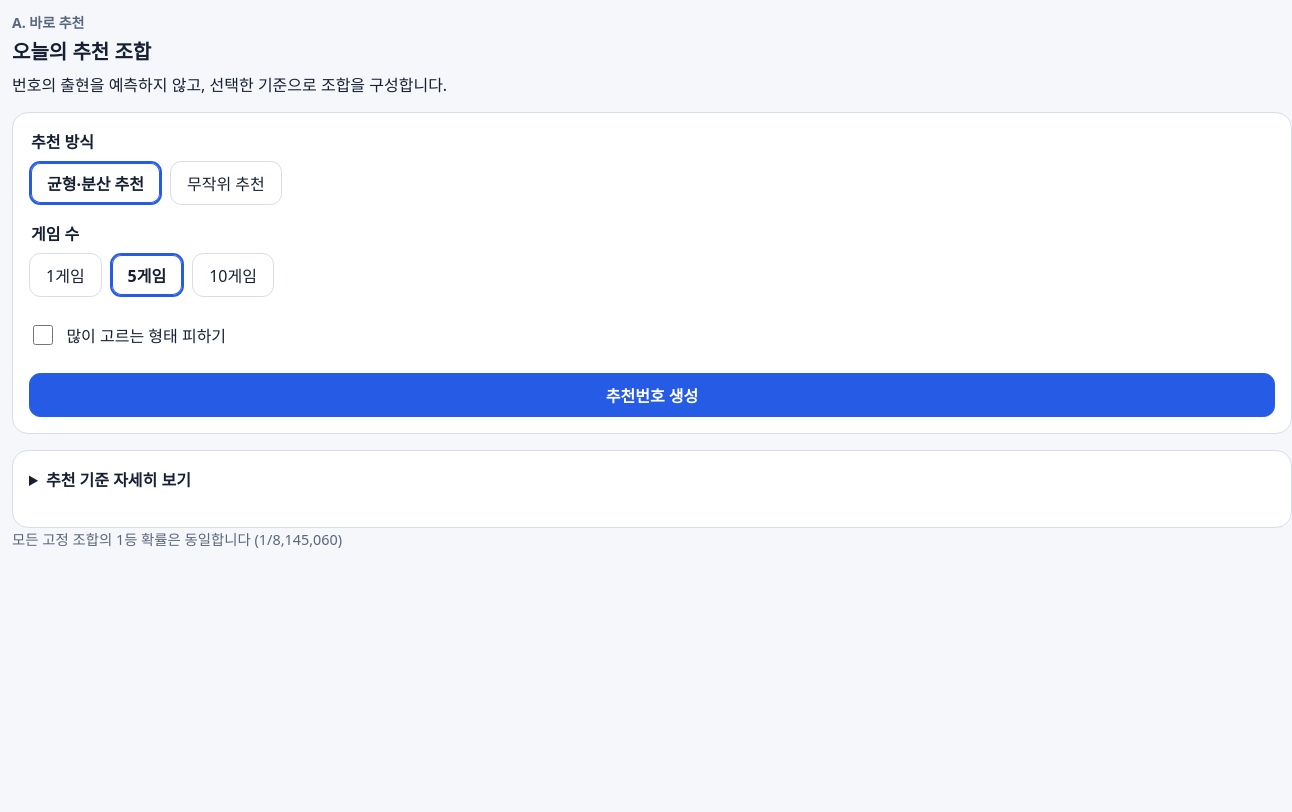
disables the popularity heuristic in random mode and explains that it is not applied
Click the button "무작위 추천". click: [226, 183]
box: [170,161,282,205]
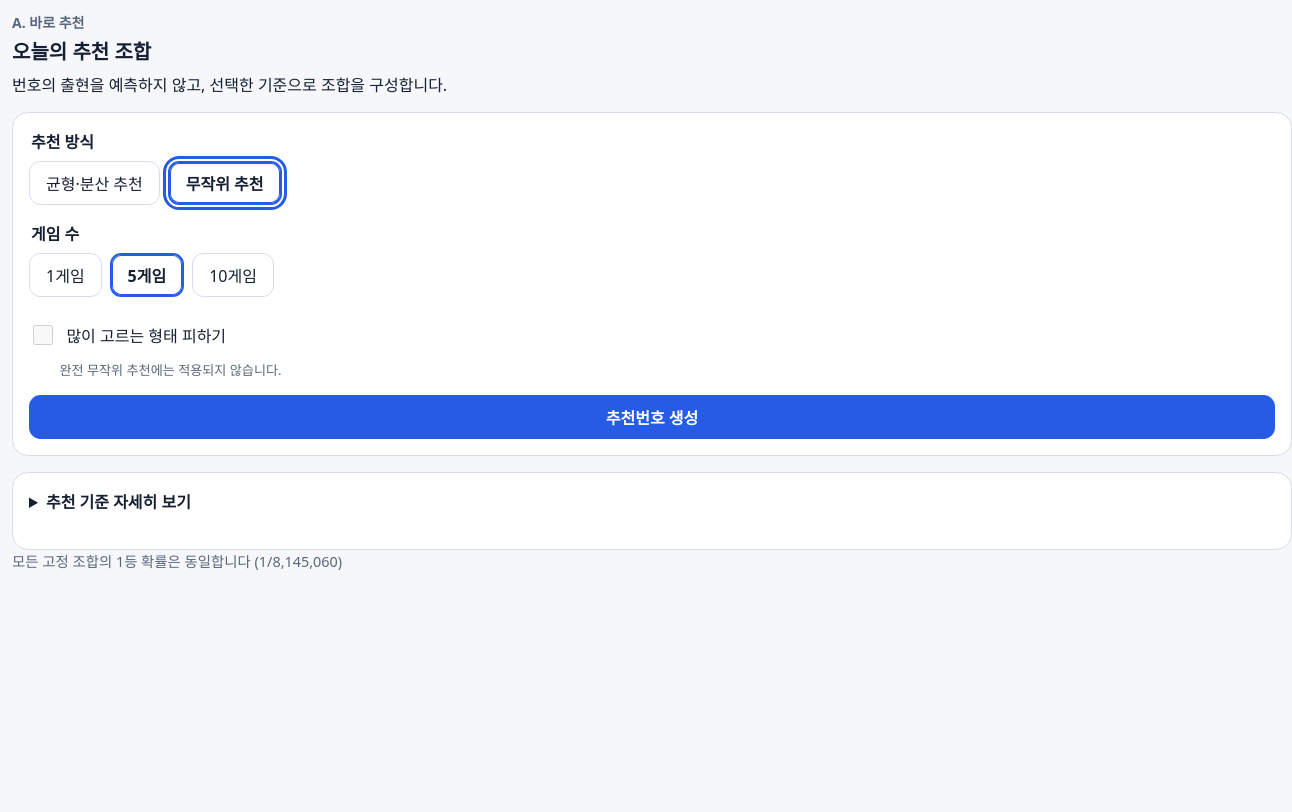
Result: the checkbox labelled "많이 고르는 형태 피하기" is disabled at [33,325,53,345]
Result: the text "완전 무작위 추천에는 적용되지 않습니다." is shown at [59,361,282,379]
